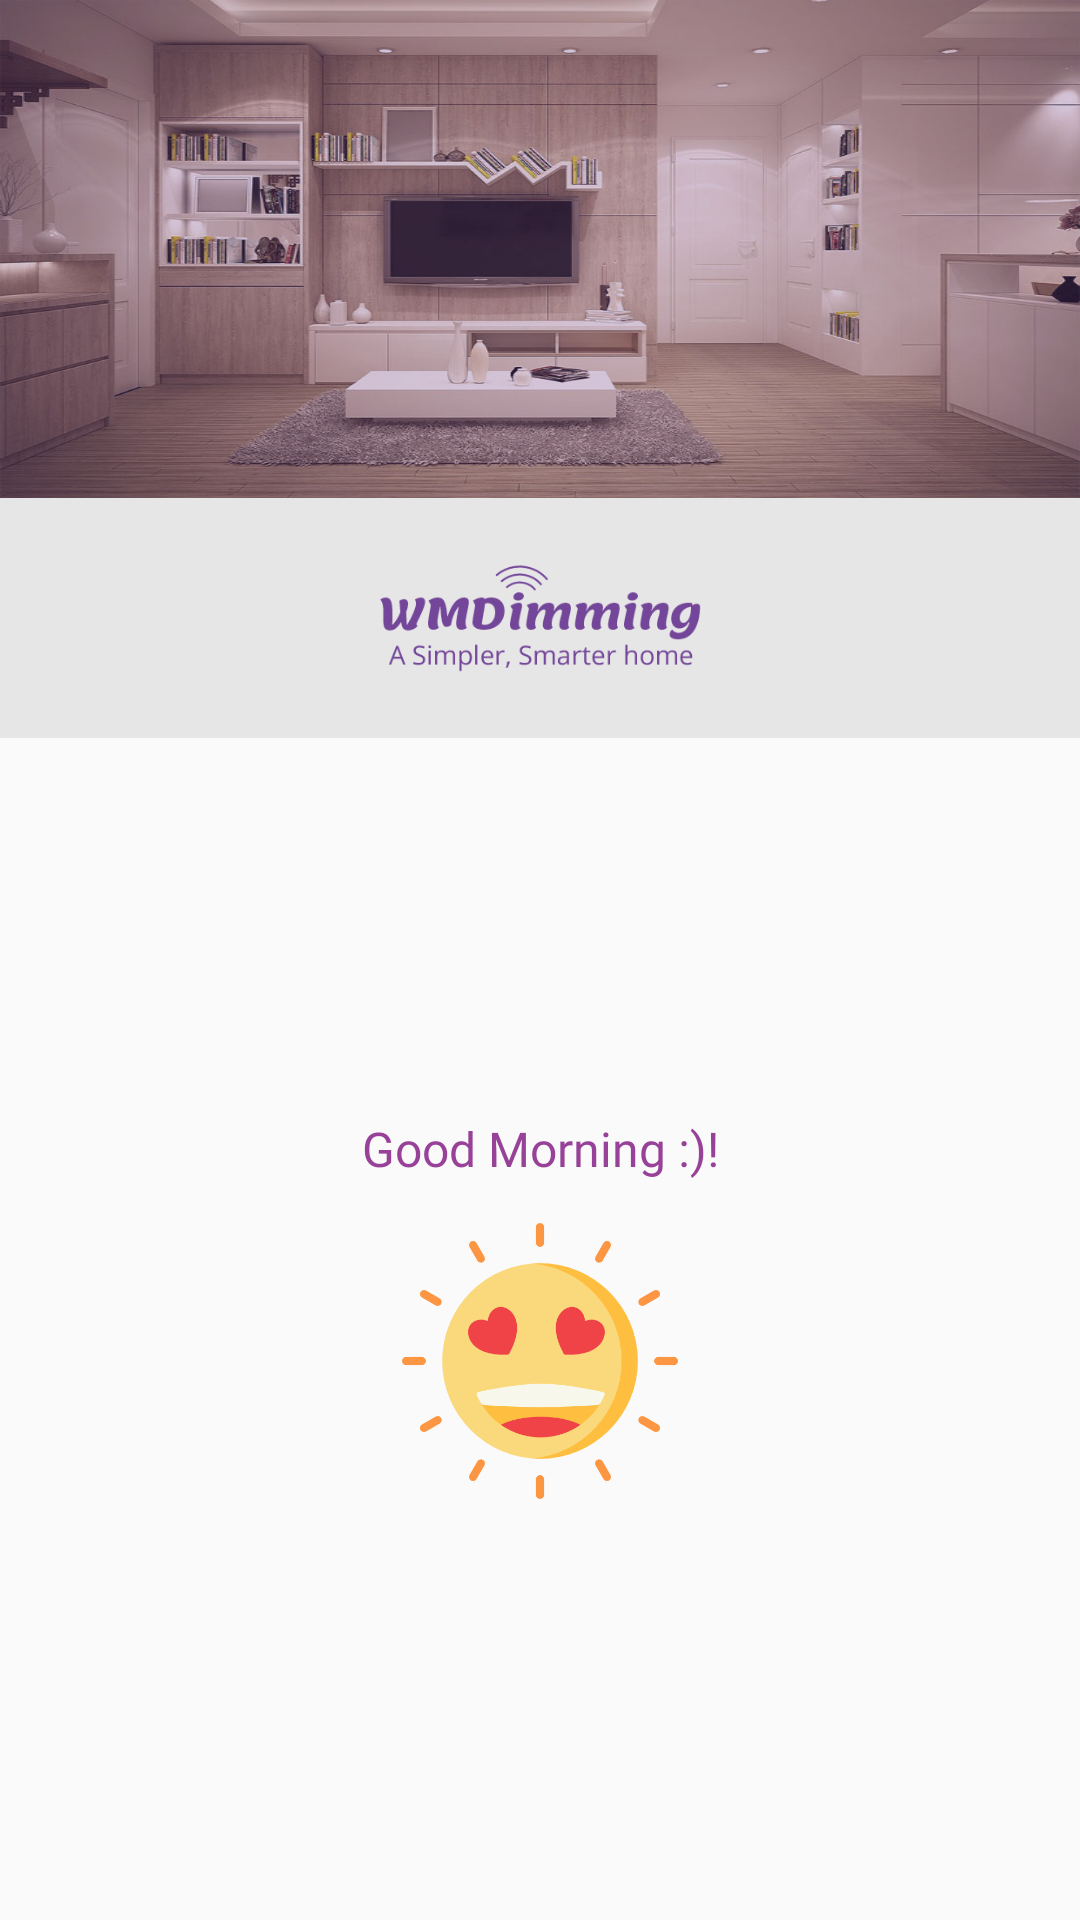

Named icons in this screenshot (1080 × 1920) and their centers, point (x, y):
sun: point (540, 1361)
